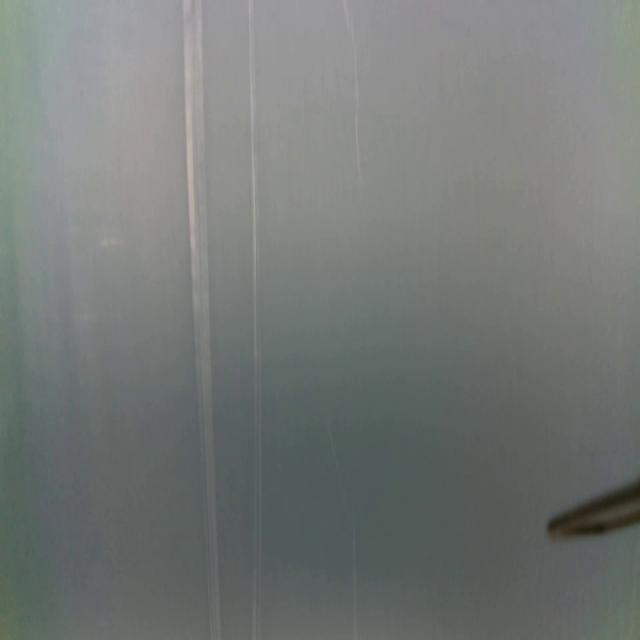crease: (184, 0, 220, 640), (248, 0, 262, 640), (323, 418, 360, 640), (344, 0, 365, 184)
